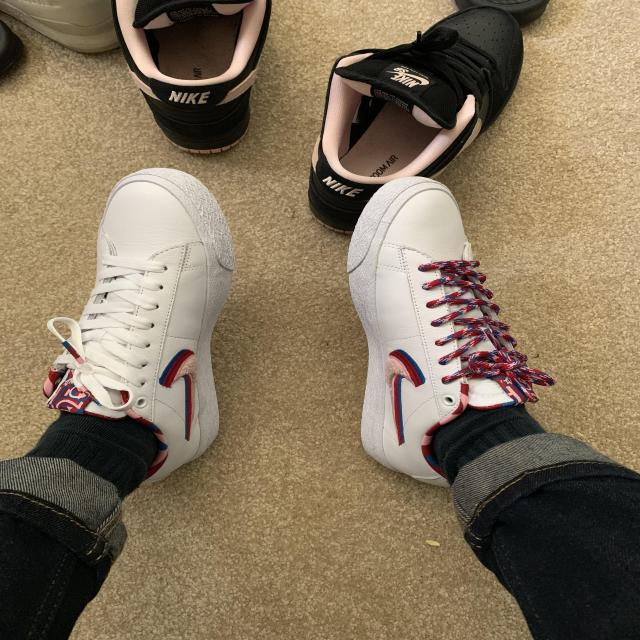shoes: (68, 152, 240, 559), (359, 186, 510, 540), (306, 3, 529, 241), (101, 0, 275, 156)
